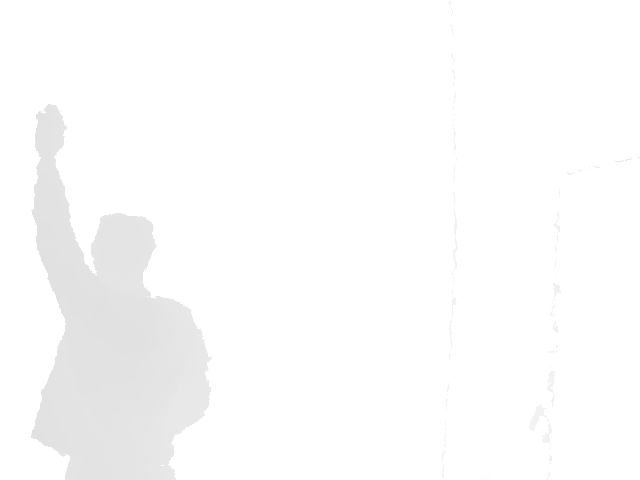hand: (33, 103, 68, 155)
head: (89, 211, 158, 286)
person: (29, 103, 213, 479)
